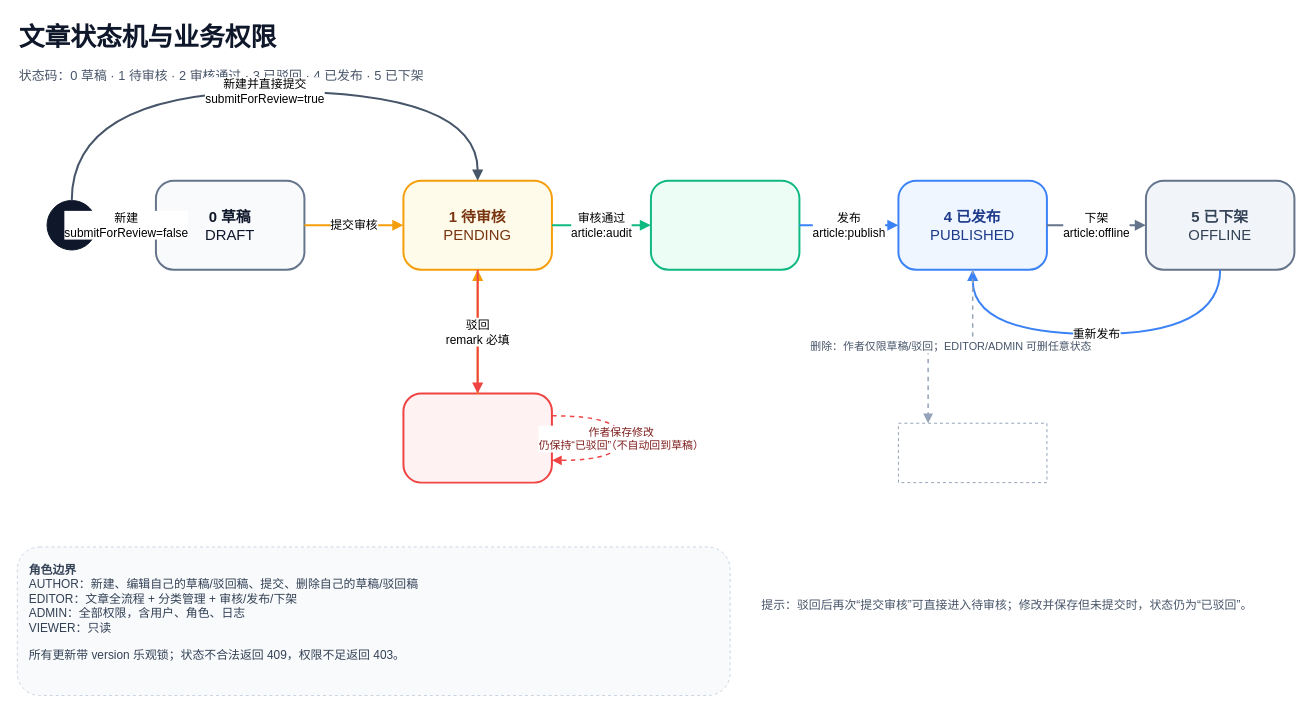
The diagram is 1313 pixels wide and 713 high, and some of its shapes have lost their labels. Here are the shapes that lost their labels. From the top down, the centre of each, then its label:
At point (724, 224): "2 审核通过 APPROVED".
At point (477, 437): "3 已驳回 REJECTED".
At point (972, 452): "逻辑删除 deleted = 1".
